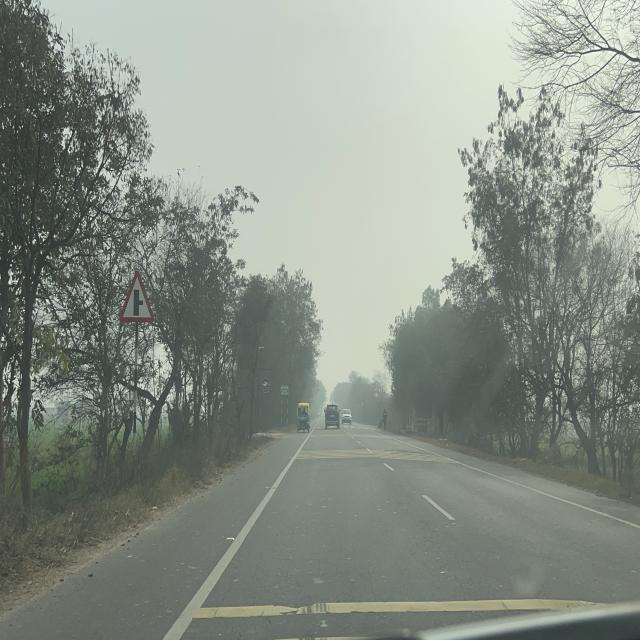GENERAL: (281, 386, 289, 396)
SIDE_ROAD_RIGHT: (119, 269, 154, 322)
